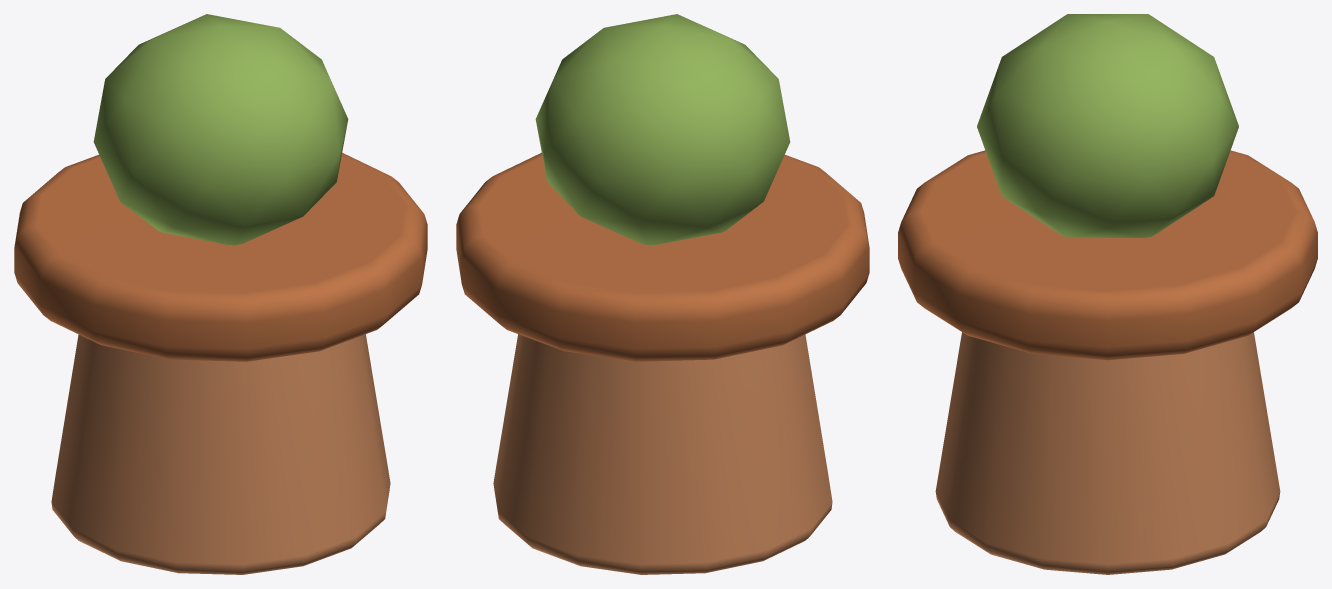
The model's file is prop_pot.glb.
3 views of the same model, side by side, from view 1: azimuth 30°, elevation 25°; view 2: azimuth 150°, elevation 25°; view 3: azimuth 270°, elevation 25° (orthographic).
Visible parts, largest first — view 1: pot_body, pot_lip, pot_plant; view 2: pot_body, pot_lip, pot_plant; view 3: pot_body, pot_lip, pot_plant.
Part boxes in pixels (x1,y1,x2,y2): pot_body: [51, 334, 390, 574]; pot_lip: [14, 153, 427, 361]; pot_plant: [93, 14, 348, 245]; pot_body: [493, 334, 832, 574]; pot_lip: [456, 153, 869, 361]; pot_plant: [535, 14, 790, 245]; pot_body: [935, 332, 1280, 574]; pot_lip: [898, 150, 1317, 360]; pot_plant: [977, 14, 1238, 237].
Size of the model in its own units: 0.48 by 0.612 by 0.48.
